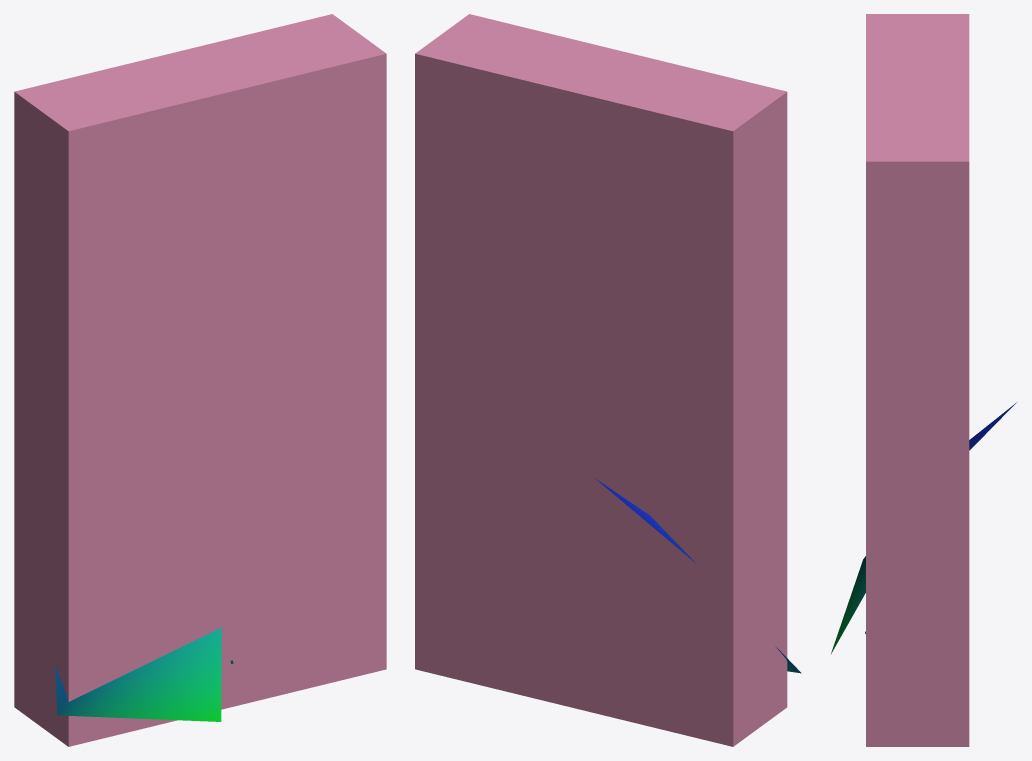
Rendered from vine_wall_wide_a.dae.
3 views of the same model, side by side, from view 1: azimuth 30°, elevation 25°; view 2: azimuth 150°, elevation 25°; view 3: azimuth 270°, elevation 25° (orthographic). The views are drawn at different scales.
Visible parts, largest first — view 1: Untitled, tree_oak_bush_a110; view 2: Untitled, tree_oak_bush_a110; view 3: Untitled, tree_oak_bush_a110.
Part boxes in pixels (left/top/right/bottom): Untitled: left=14, top=14, right=386, bottom=746; tree_oak_bush_a110: left=55, top=627, right=233, bottom=721; Untitled: left=415, top=14, right=787, bottom=746; tree_oak_bush_a110: left=595, top=478, right=801, bottom=673; Untitled: left=866, top=14, right=969, bottom=746; tree_oak_bush_a110: left=831, top=402, right=1016, bottom=653.
Bounding box in the file's own units: 1.74 × 0.8994 × 3.1.
